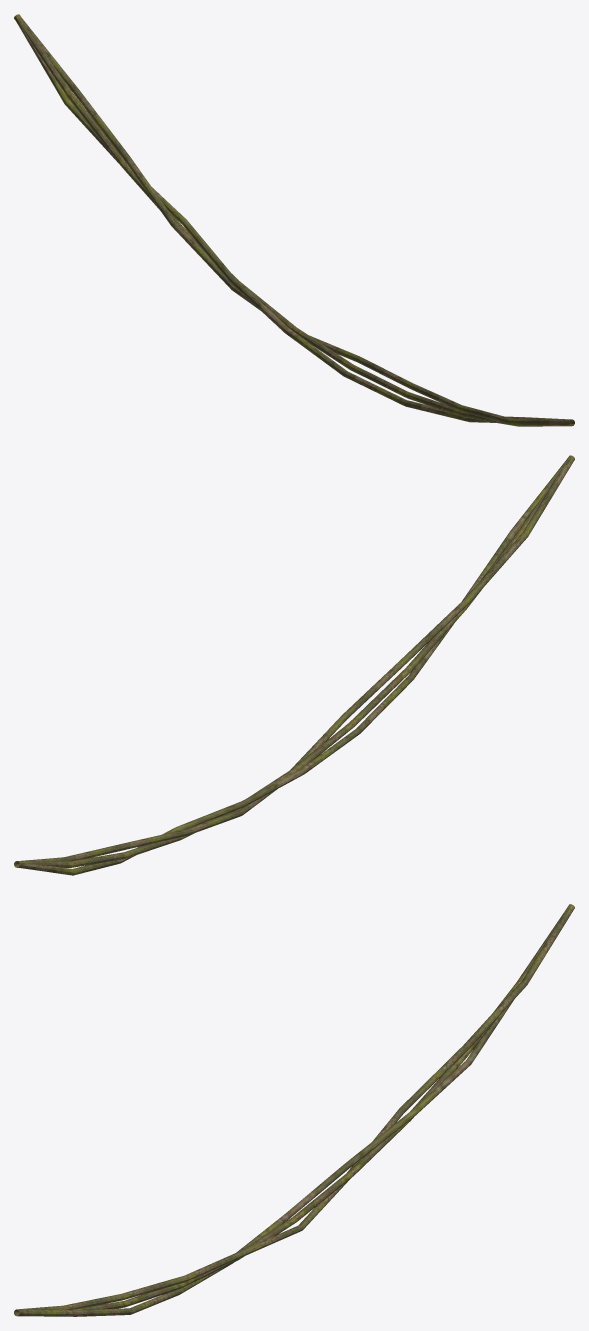
Rendered from vine.glb.
3 views of the same model, one above another, from view 1: azimuth 30°, elevation 25°; view 2: azimuth 150°, elevation 25°; view 3: azimuth 330°, elevation 25° (orthographic).
Bounding box in the file's own units: 13.04 × 74.87 × 615.
1 material, 1 textured.
